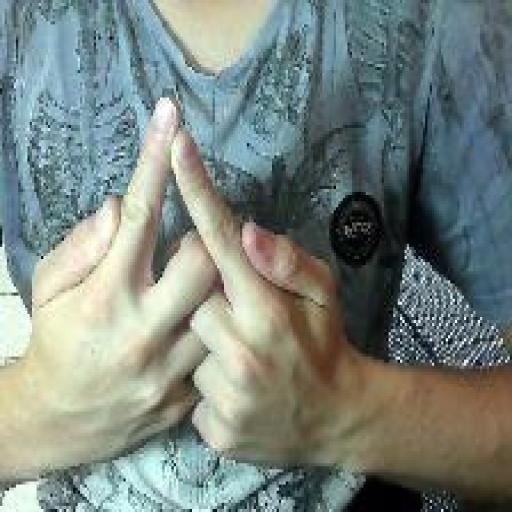Uma -horse-: (24, 88, 344, 478)
